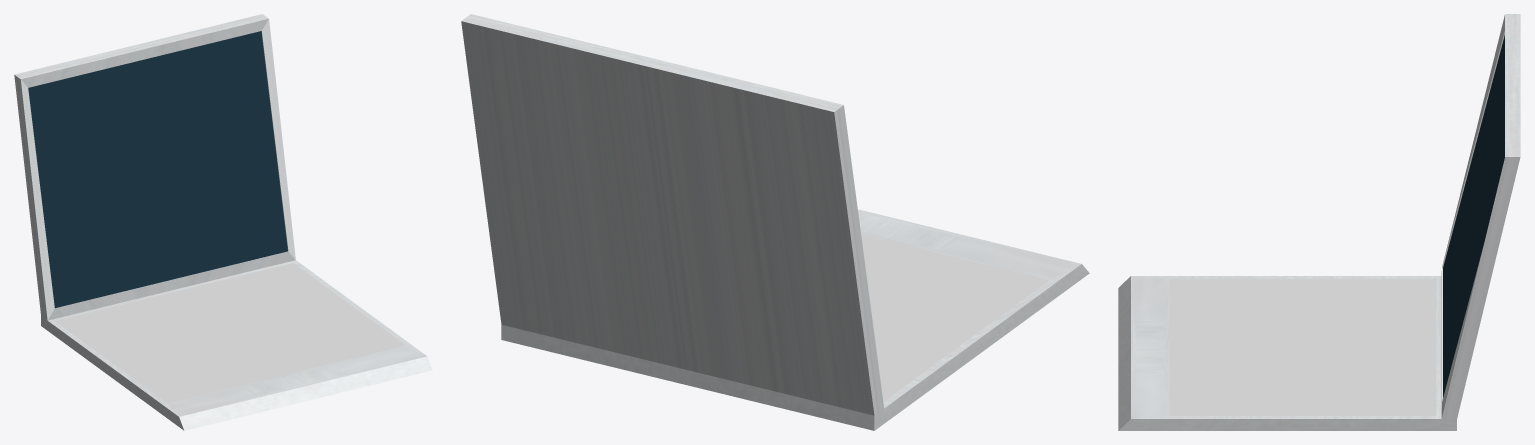
The model's file is laptop_simon_says.fbx.
3 renders of one model, left to right at view 1: azimuth 30°, elevation 25°; view 2: azimuth 150°, elevation 25°; view 3: azimuth 270°, elevation 25°, orthographic. The views are drawn at different scales.
Parts seen in each view (by area): view 1: Cube.001, Cube.002, Cube; view 2: Cube, Cube.002; view 3: Cube.002, Cube, Cube.001.
Part boxes in pixels (left/top/right/bottom): Cube.001: left=28, top=31, right=287, bottom=308; Cube.002: left=55, top=263, right=405, bottom=403; Cube: left=14, top=14, right=432, bottom=430; Cube: left=461, top=14, right=1089, bottom=430; Cube.002: left=861, top=234, right=1049, bottom=401; Cube.002: left=1169, top=278, right=1436, bottom=415; Cube: left=1118, top=14, right=1520, bottom=430; Cube.001: left=1443, top=35, right=1504, bottom=397.
Size of the model in its own units: 200 by 178 by 237.
Materials: 3 (1 with a texture image).
